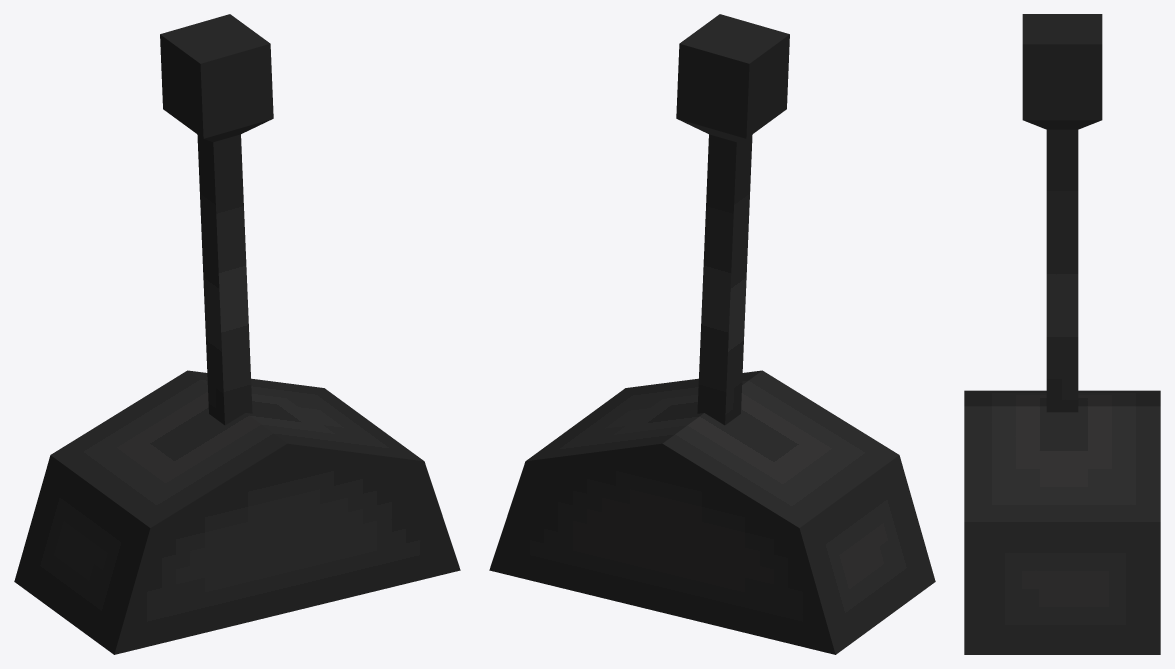
The model's file is lever0003.obj.
3 renders of one model, left to right at view 1: azimuth 30°, elevation 25°; view 2: azimuth 150°, elevation 25°; view 3: azimuth 270°, elevation 25°, orthographic.
Visible parts, largest first — view 1: Cube.018, Cube.019; view 2: Cube.018, Cube.019; view 3: Cube.018, Cube.019.
Part boxes in pixels (x1,y1,x2,y2): Cube.018: (14,370,460,654); Cube.019: (160,14,273,425); Cube.018: (489,370,935,654); Cube.019: (676,14,789,425); Cube.018: (964,390,1160,654); Cube.019: (1022,14,1102,412).
Size of the model in its own units: 32 by 48.47 by 16.
